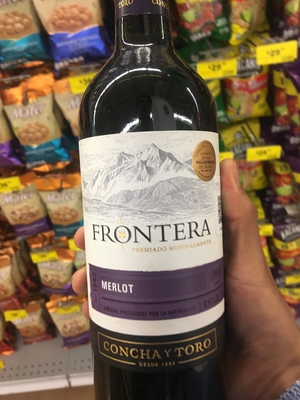frontera merlot: (80, 14, 255, 385)
